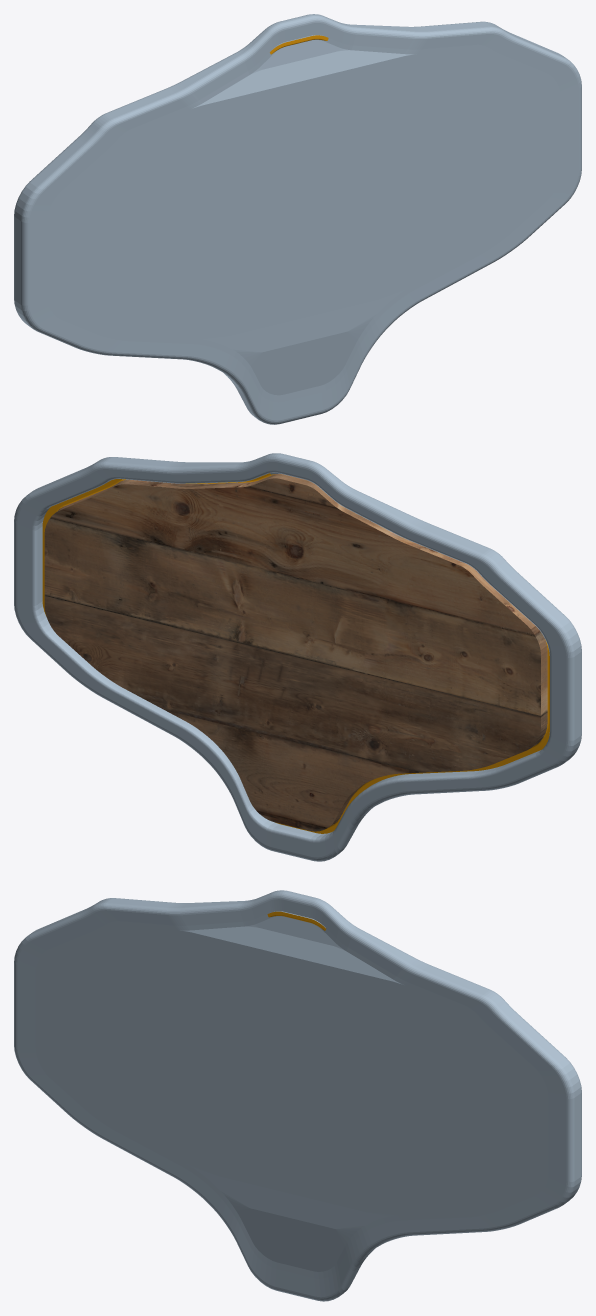
The model's file is Sign.fbx.
The picture shows the model from 3 angles, top to bottom: view 1: azimuth 30°, elevation 25°; view 2: azimuth 150°, elevation 25°; view 3: azimuth 330°, elevation 25°; orthographic projection.
Parts seen in each view (by area): view 1: Cube; view 2: Cube; view 3: Cube.
Boxes of the visible parts, box(x1,y1,x2,y2) form: Cube: box(14, 14, 581, 424); Cube: box(14, 453, 581, 861); Cube: box(14, 890, 581, 1301).
Bounding box in the file's own units: 301 × 204 × 11.31.
